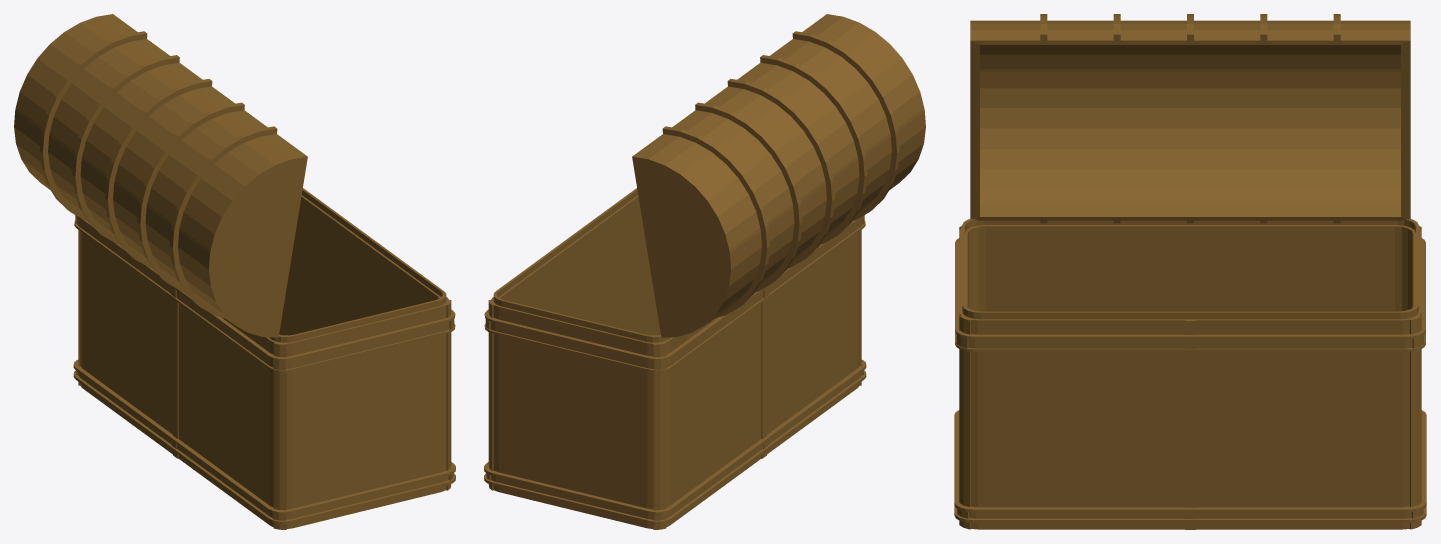
File: treasure 3d open.fbx
3 views of the same model, side by side, from view 1: azimuth 30°, elevation 25°; view 2: azimuth 150°, elevation 25°; view 3: azimuth 270°, elevation 25° (orthographic). The views are drawn at different scales.
Visible parts, largest first — view 1: Cube, Cylinder; view 2: Cube, Cylinder; view 3: Cube, Cylinder.
Boxes of the visible parts, <box> form: Cube: <box>73,188,455,529</box>; Cylinder: <box>14,14,307,337</box>; Cube: <box>484,188,866,529</box>; Cylinder: <box>632,14,925,337</box>; Cube: <box>954,219,1426,529</box>; Cylinder: <box>970,14,1410,223</box>.
Size of the model in its own units: 284 by 400 by 409.
